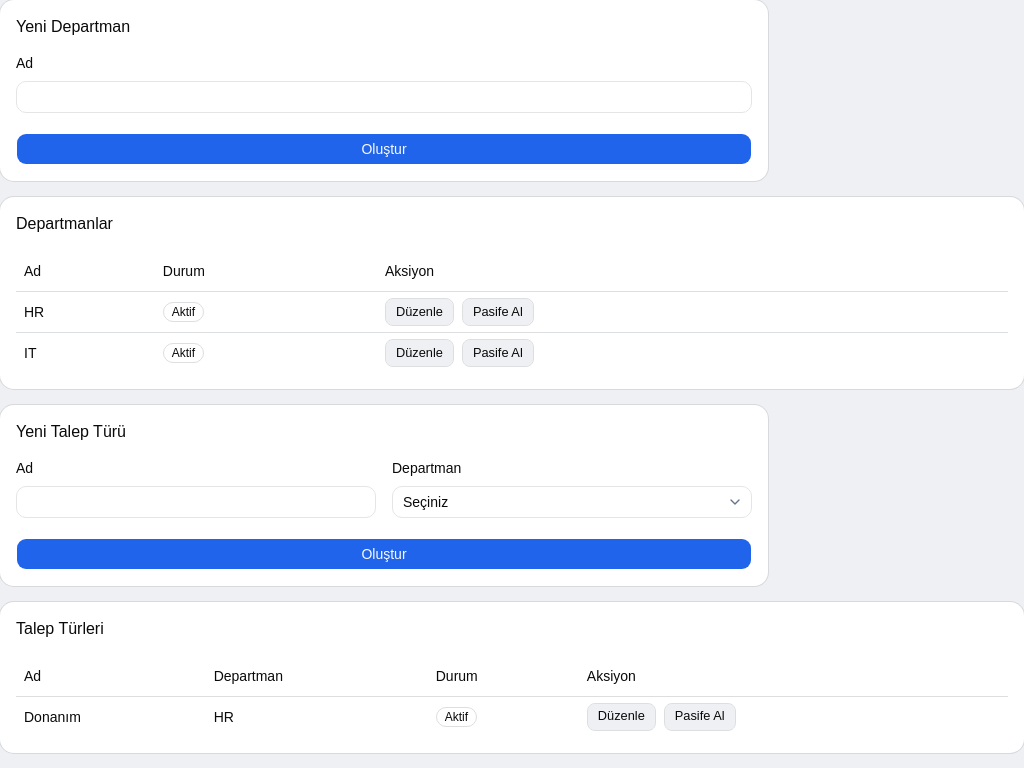
AdminCatalog page › edits a request type name and department via the Düzenle dialog
Click the button "Düzenle" in the row of "Donanım" at (621, 716), box [587,702,656,730]
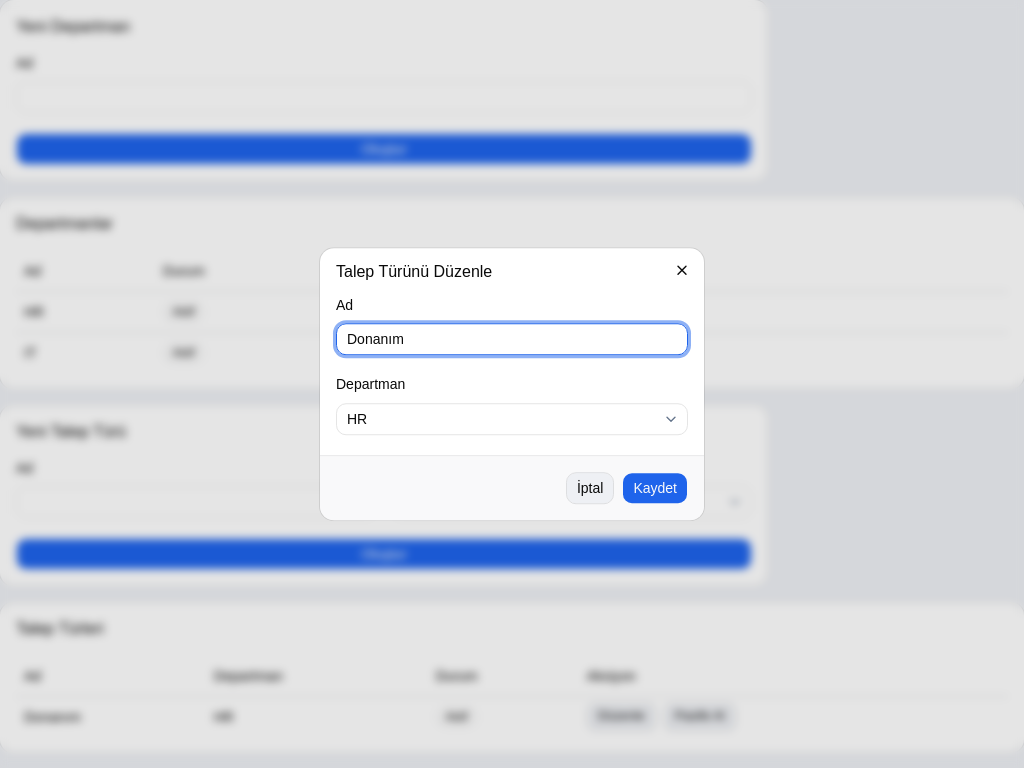
Expected: the field labelled "Ad" holds "Donanım"
Expected: the dropdown labelled "Departman" shows "HR", [336,403,688,435]
Replace the text in the field labelled "Ad" with "Donanım Arızası" at (512, 340), box [336,324,688,356]
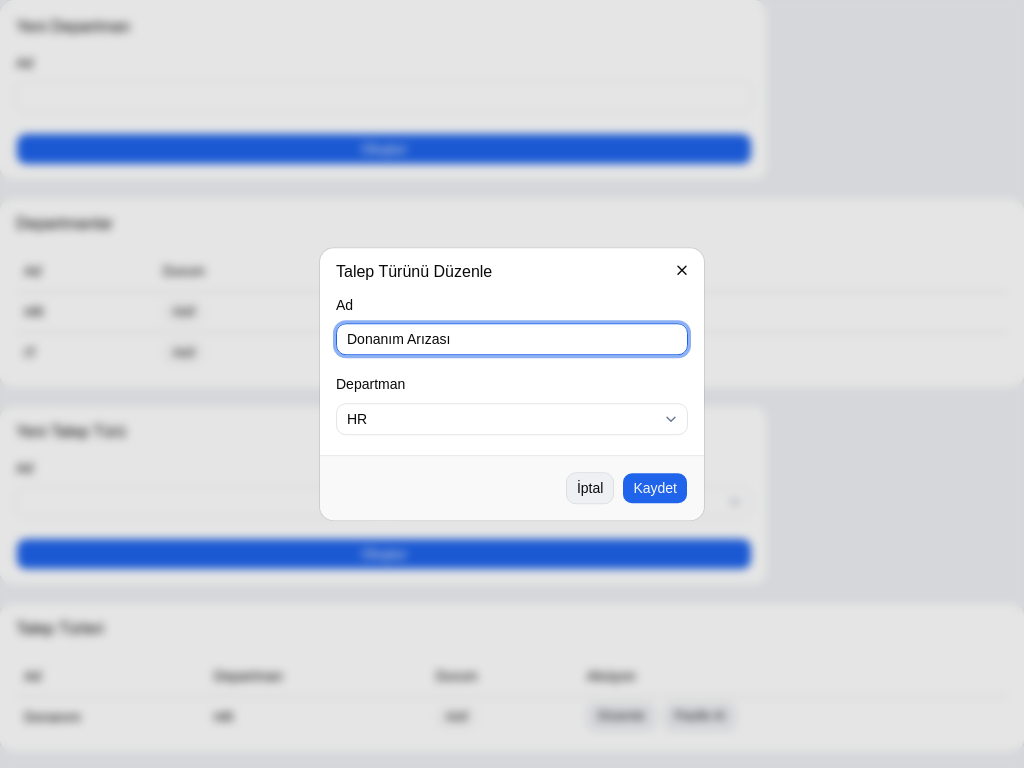
Select "IT" in the dropdown labelled "Departman" at (512, 419), box [336,403,688,435]
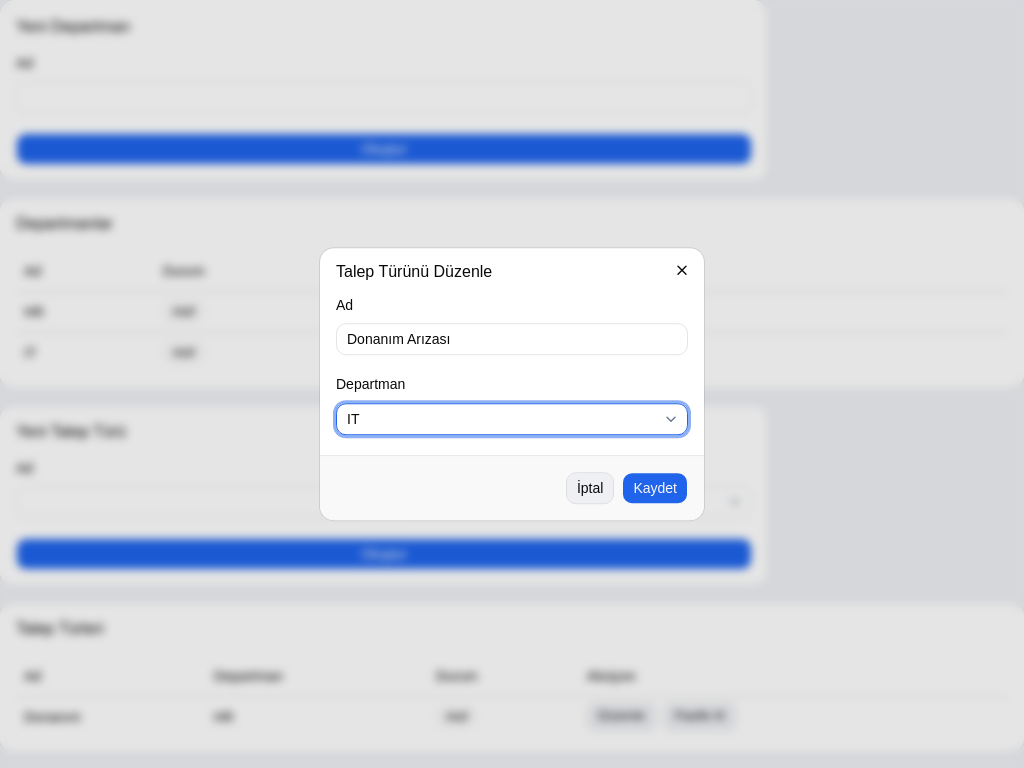
Click the button "Kaydet" at (655, 488), box [622,472,688,504]
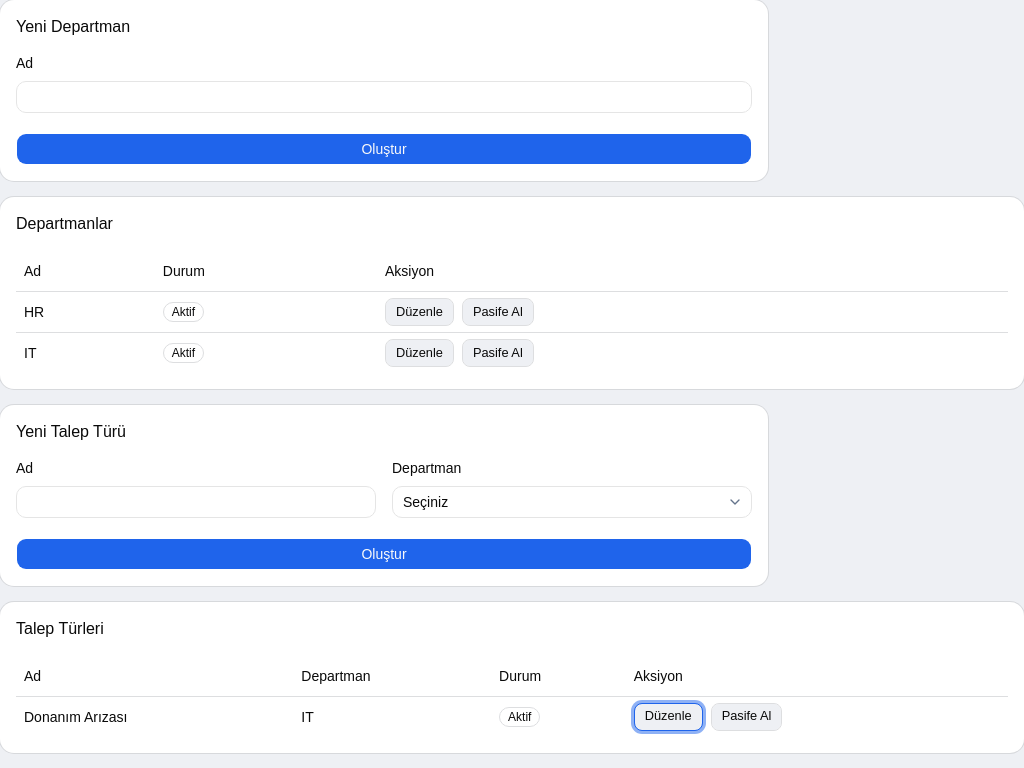
Expected: the text "IT" in the row of "Donanım Arızası" is shown, [301,708,314,724]
Expected: the dialog is gone
